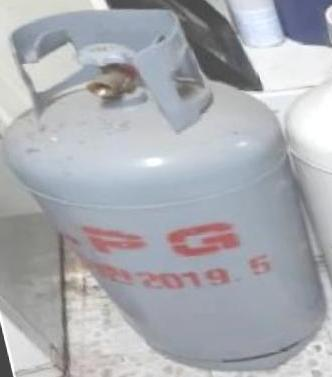cylinder: (1, 1, 332, 377)
